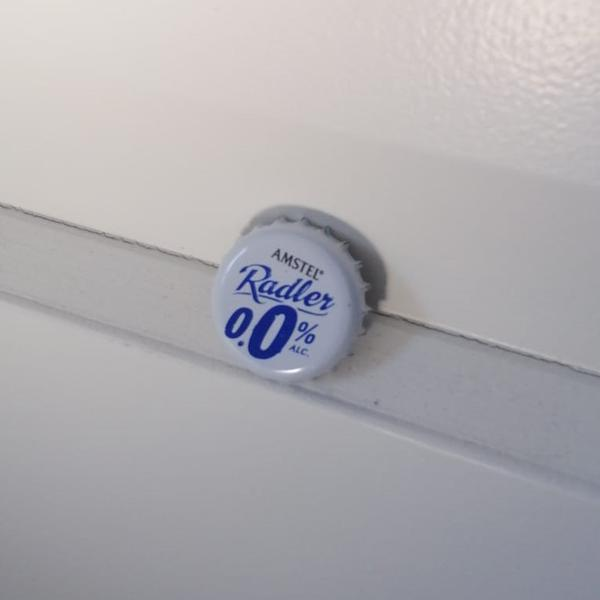amstelradler0.0: (207, 207, 373, 391)
